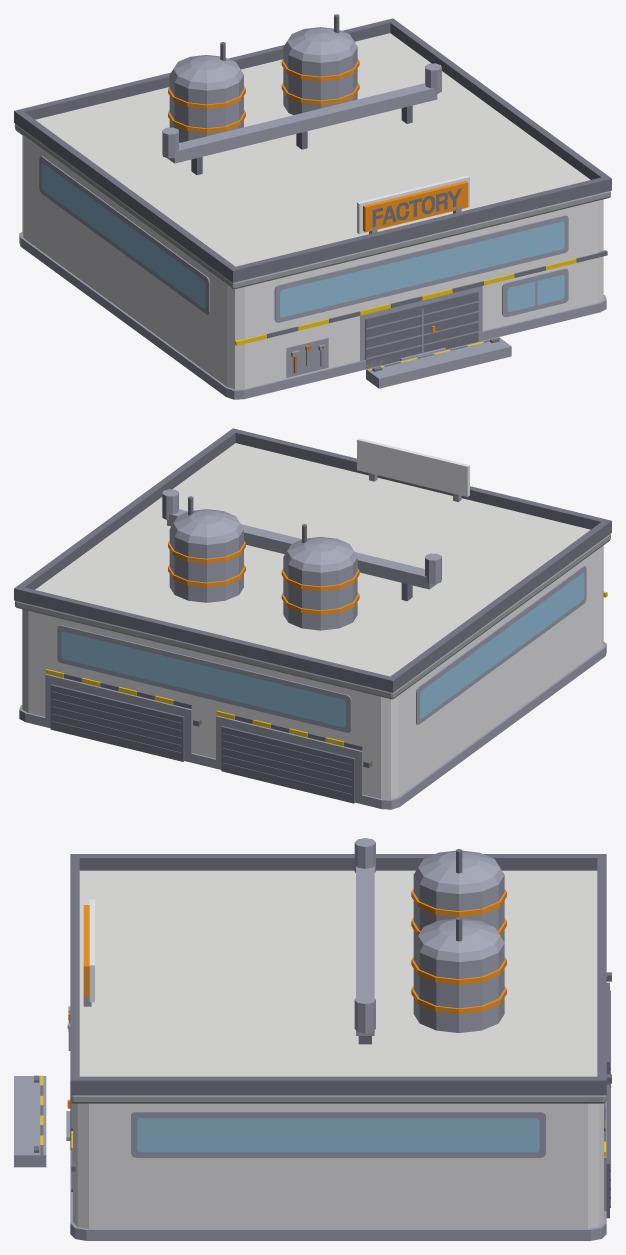
Rendered from factory-2x2-t2-tone-a.glb.
3 renders of one model, top to bottom at view 1: azimuth 30°, elevation 25°; view 2: azimuth 150°, elevation 25°; view 3: azimuth 270°, elevation 25°, orthographic. The views are drawn at different scales.
Visible parts, largest first — view 1: factory-2x2-t2-tone-a; view 2: factory-2x2-t2-tone-a; view 3: factory-2x2-t2-tone-a.
Boxes of the visible parts, <box> form: factory-2x2-t2-tone-a: <box>14,14,611,399</box>; factory-2x2-t2-tone-a: <box>14,428,611,809</box>; factory-2x2-t2-tone-a: <box>14,838,611,1240</box>.
Bounding box in the file's own units: 2 × 1.04 × 2.23.
Materials: 1 (1 with a texture image).
